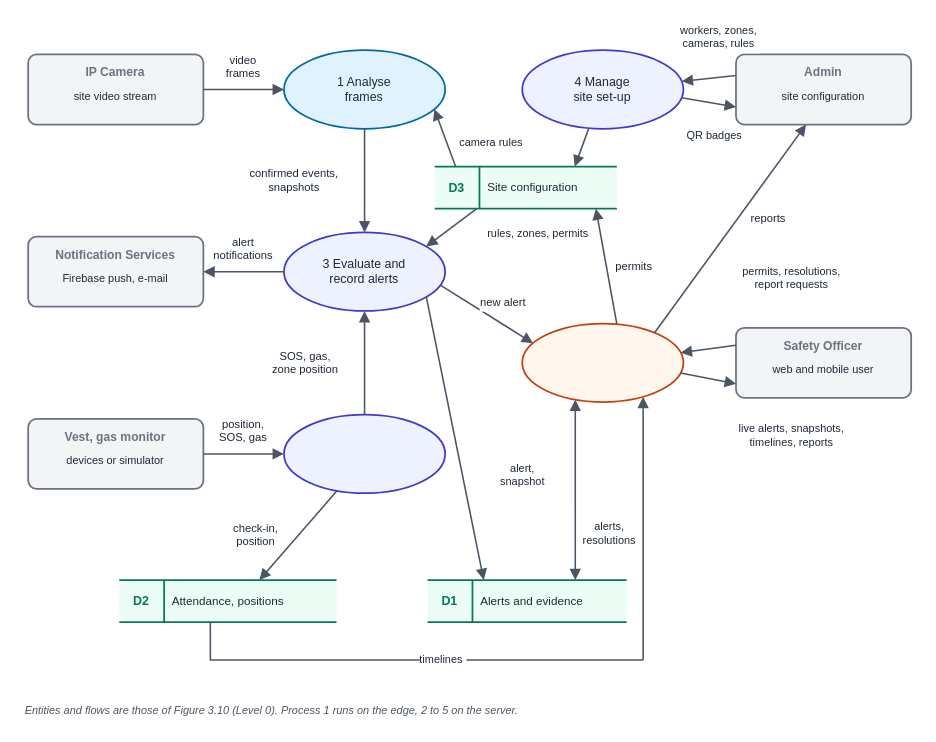
This 936x742 diagram has some shape labels left out. The centre of each missing label's shape, as x and y in pixels:
2 Process device telemetry: the point at 363,453
5 Supervise and report: the point at 602,362
